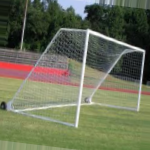goals: (9, 26, 146, 131)
